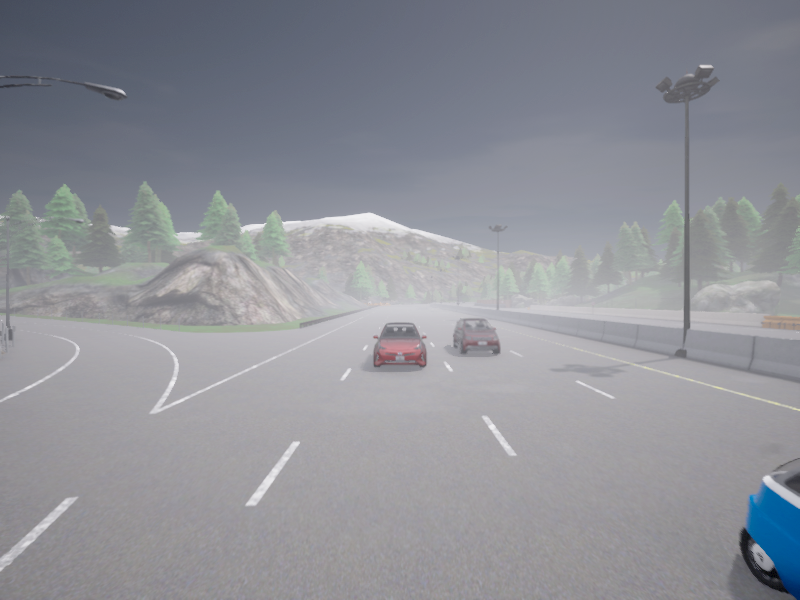vehicle: (740, 458, 799, 599), (373, 322, 426, 367), (453, 318, 499, 354), (458, 301, 462, 303)
